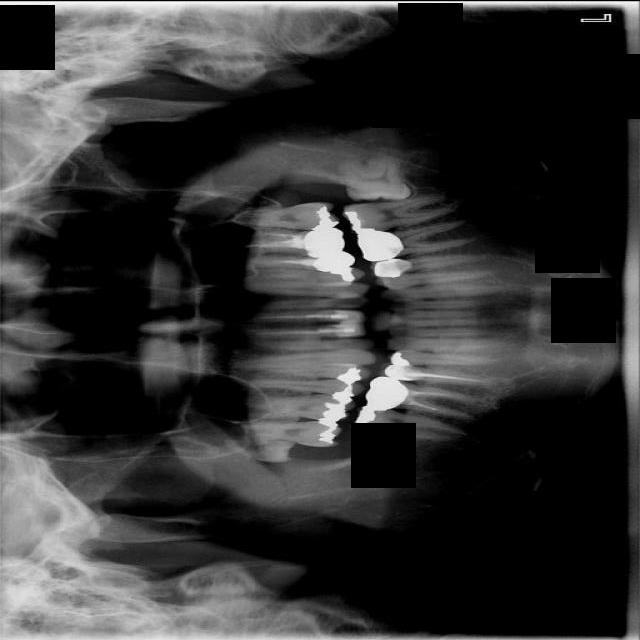3M ESPE Implant: (219, 433, 294, 463)
52: (356, 221, 404, 263), (305, 390, 356, 423), (349, 403, 396, 438), (341, 202, 388, 233), (298, 199, 341, 231), (303, 226, 345, 258), (367, 376, 407, 408), (295, 418, 340, 446), (317, 264, 366, 289), (311, 247, 356, 274), (369, 257, 412, 278), (326, 376, 366, 398), (332, 360, 372, 382), (378, 362, 424, 381), (387, 348, 426, 366), (334, 322, 367, 337), (332, 309, 367, 323)
73: (393, 379, 480, 423), (409, 365, 496, 390), (241, 228, 311, 255), (250, 253, 325, 270), (250, 308, 339, 322), (254, 324, 342, 337), (616, 10, 622, 20)
BioHorizons Implant: (232, 201, 339, 229)
Biomet 3i Implant: (337, 151, 411, 204)
Blue Sky Bio Implant: (340, 191, 456, 236)
Caries: (225, 419, 342, 445)
Implant: (350, 404, 465, 442)
